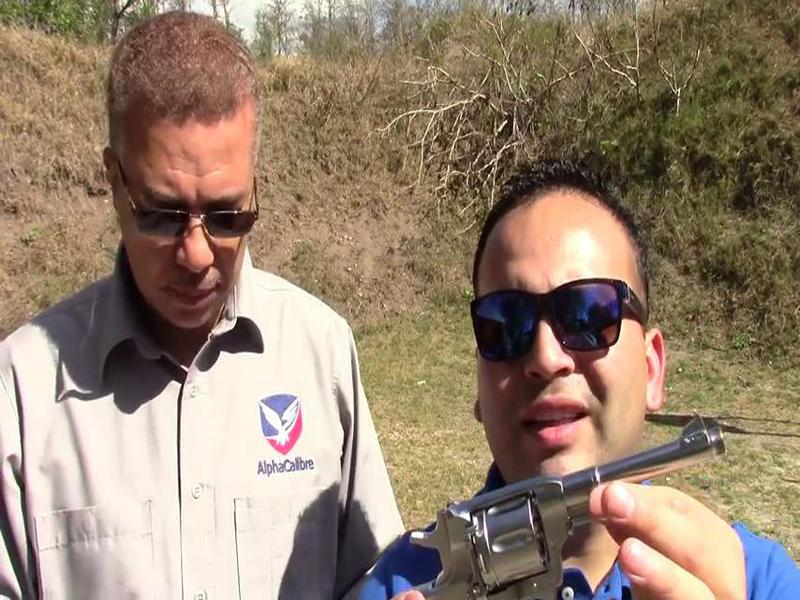Revolver: (399, 407, 752, 600)
